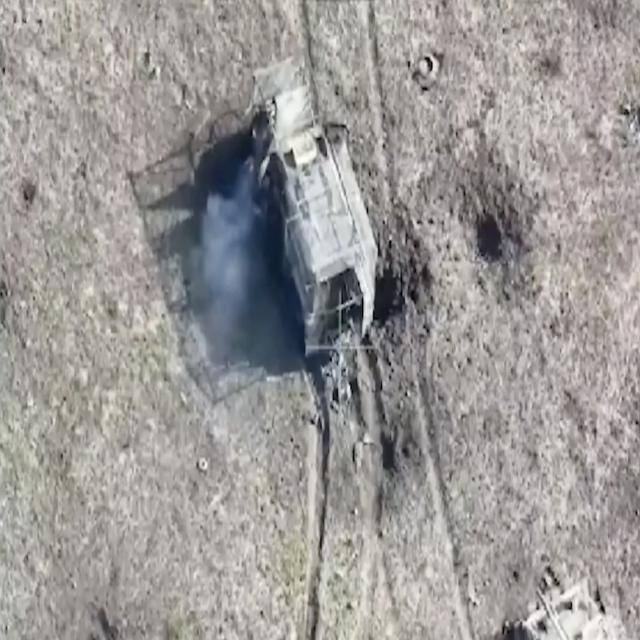vehicle: (249, 65, 378, 362)
